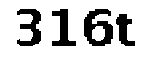1: (48, 6, 78, 51)
3: (13, 7, 43, 50)
6: (82, 6, 114, 51)
t: (114, 12, 139, 49)
